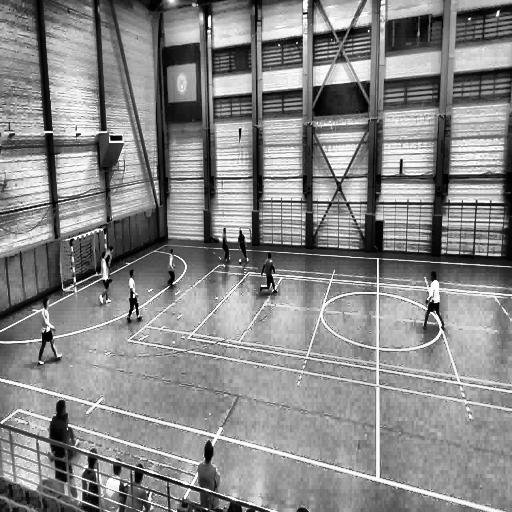ball: (238, 256, 244, 266)
player: (38, 296, 62, 364), (422, 270, 444, 330), (127, 268, 142, 322), (99, 250, 112, 305), (260, 252, 277, 292), (167, 248, 176, 287), (238, 228, 248, 263), (221, 228, 230, 263), (105, 246, 113, 284)
